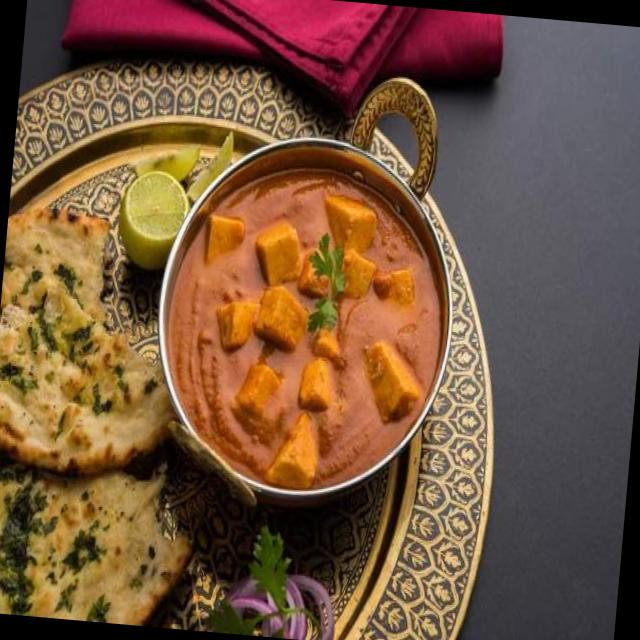roti: (0, 350, 139, 623)
